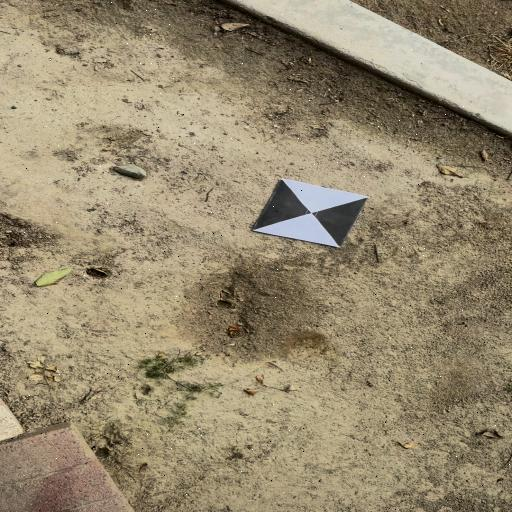target: (254, 179, 367, 247)
